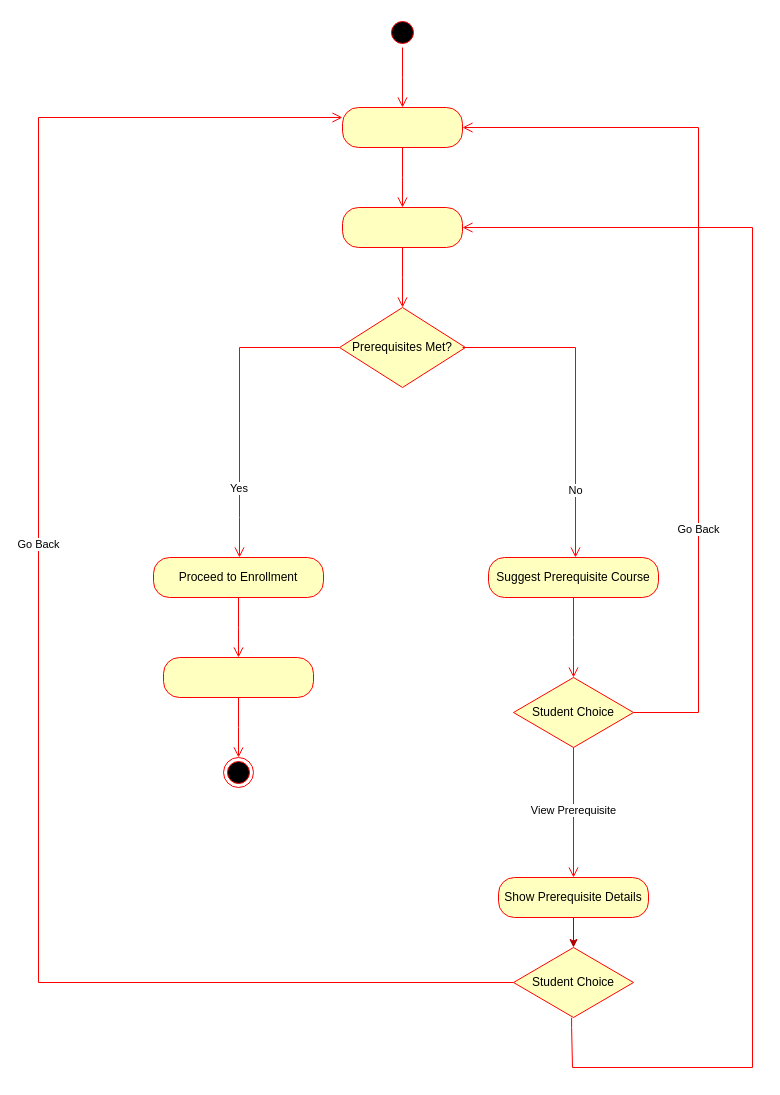
This 780x1095 diagram has some shape labels left out. Each missing label, with the centre of its shape:
Browse Coureses: (402,127)
Confirm the Enrollment: (238,677)
Select a Course: (402,227)
